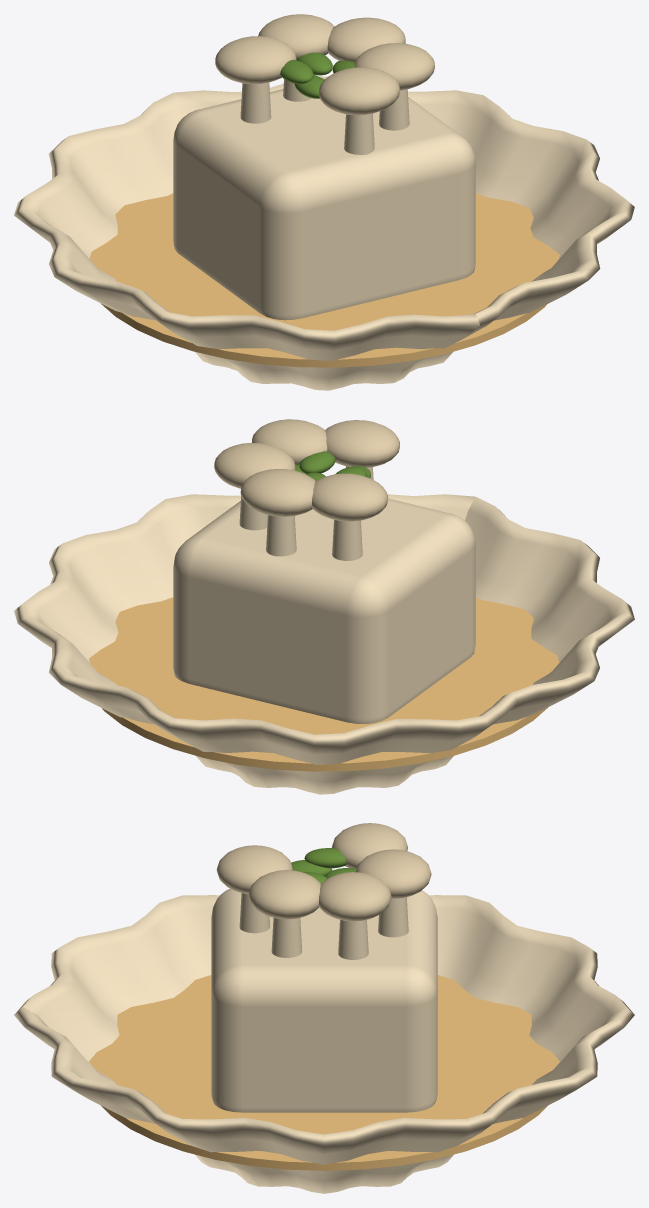
Rendered from 19-tofu-mushroom.glb.
3 views of the same model, one above another, from view 1: azimuth 30°, elevation 25°; view 2: azimuth 150°, elevation 25°; view 3: azimuth 270°, elevation 25° (orthographic).
Parts seen in each view (by area): view 1: 두부 앙카케; view 2: 두부 앙카케; view 3: 두부 앙카케.
Boxes of the visible parts, x1,y1,x2,y2 form: 두부 앙카케: (14, 14, 634, 390); 두부 앙카케: (14, 419, 634, 794); 두부 앙카케: (14, 823, 634, 1193).
Bounding box in the file's own units: 1.79 × 0.895 × 1.79.
